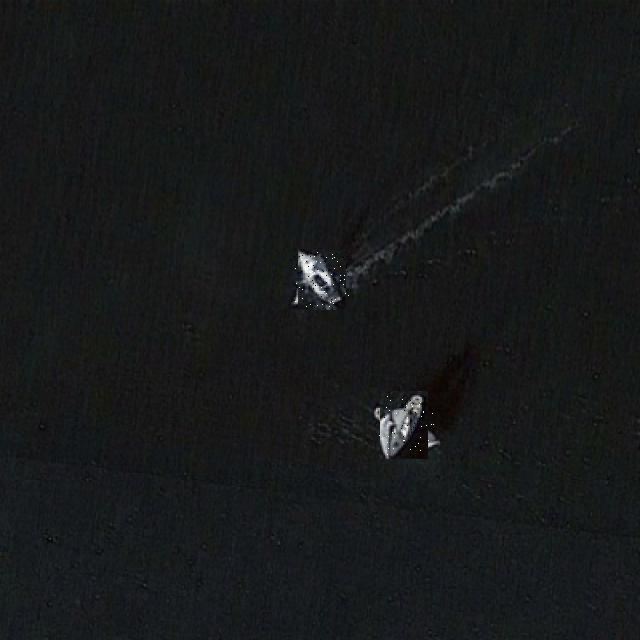boat: (374, 396, 434, 455), (294, 252, 349, 307)
